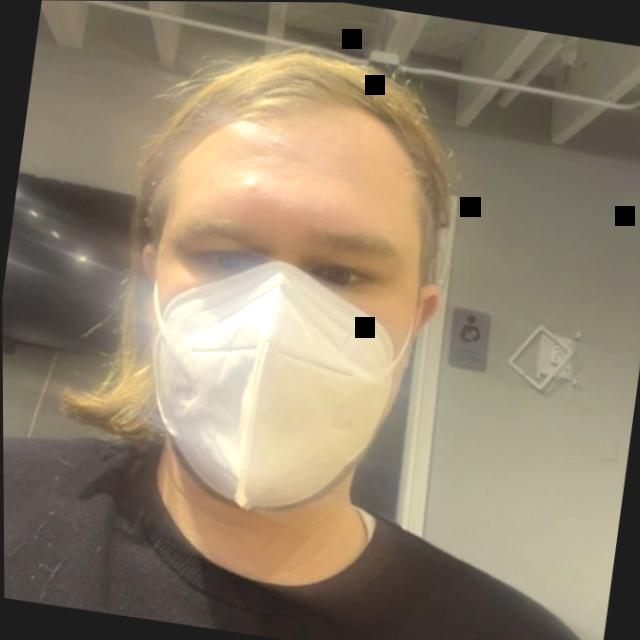Mask: (30, 4, 528, 625)
